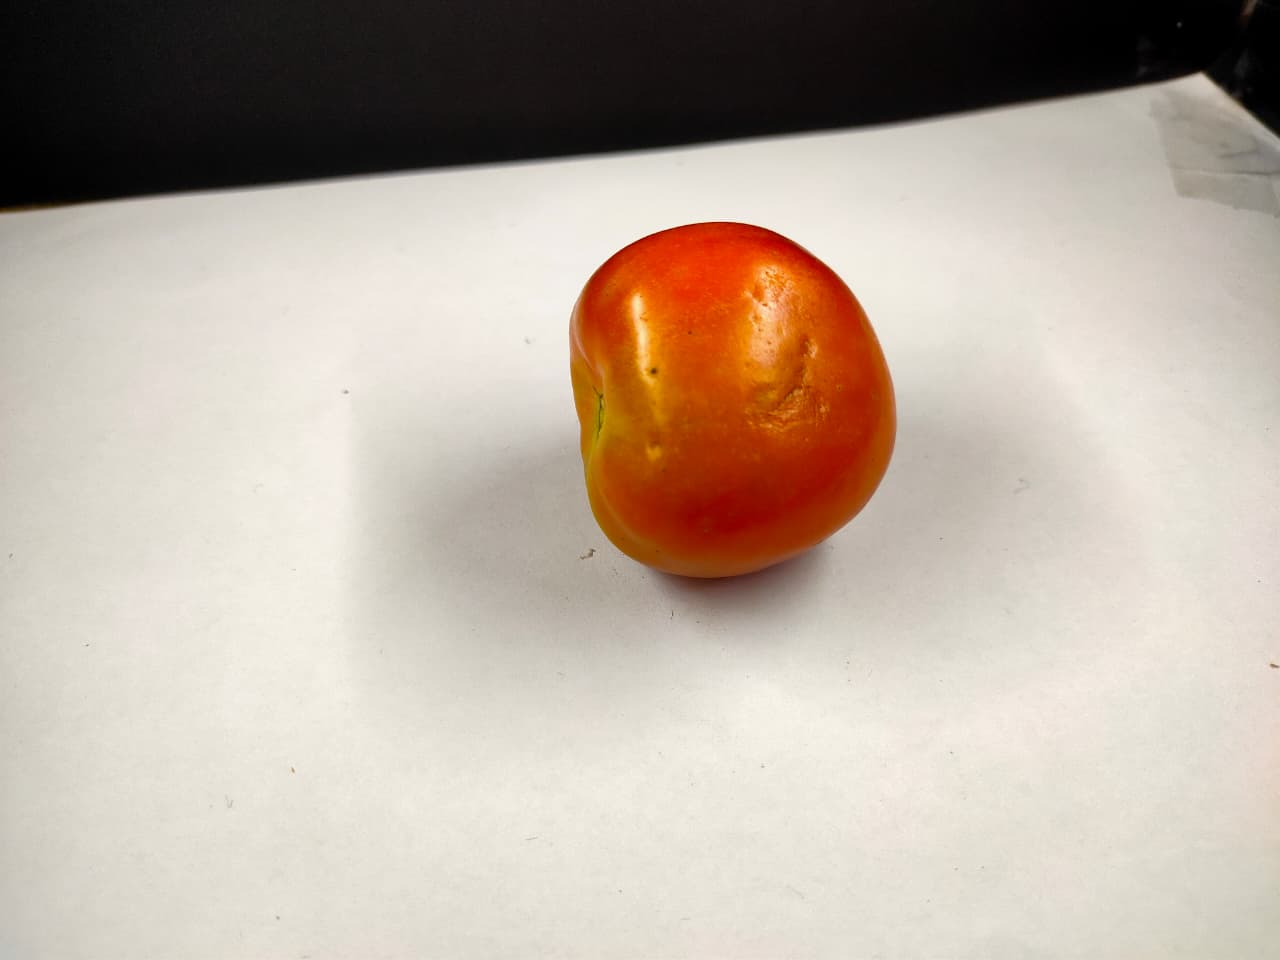unripe: (570, 221, 913, 583)
